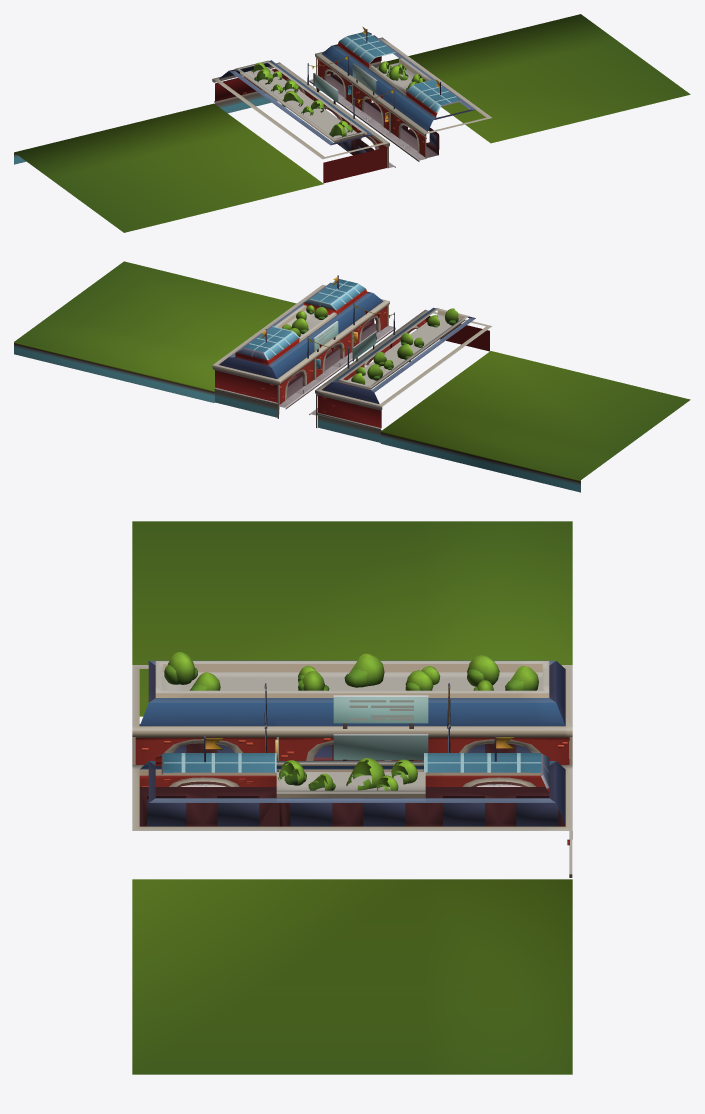
Rendered from Tom1_SideArchSet01_30.fbx.
The picture shows the model from 3 angles, top to bottom: view 1: azimuth 30°, elevation 25°; view 2: azimuth 150°, elevation 25°; view 3: azimuth 270°, elevation 25°; orthographic projection. The views are drawn at different scales.
Parts seen in each view (by area): view 1: Tom1_SideArchSet01_30; view 2: Tom1_SideArchSet01_30; view 3: Tom1_SideArchSet01_30.
Boxes of the visible parts, x1,y1,x2,y2 form: Tom1_SideArchSet01_30: (14, 14, 690, 232); Tom1_SideArchSet01_30: (14, 261, 690, 492); Tom1_SideArchSet01_30: (132, 521, 572, 1074).
Bounding box in the file's own units: 8921 × 1024 × 3000.
